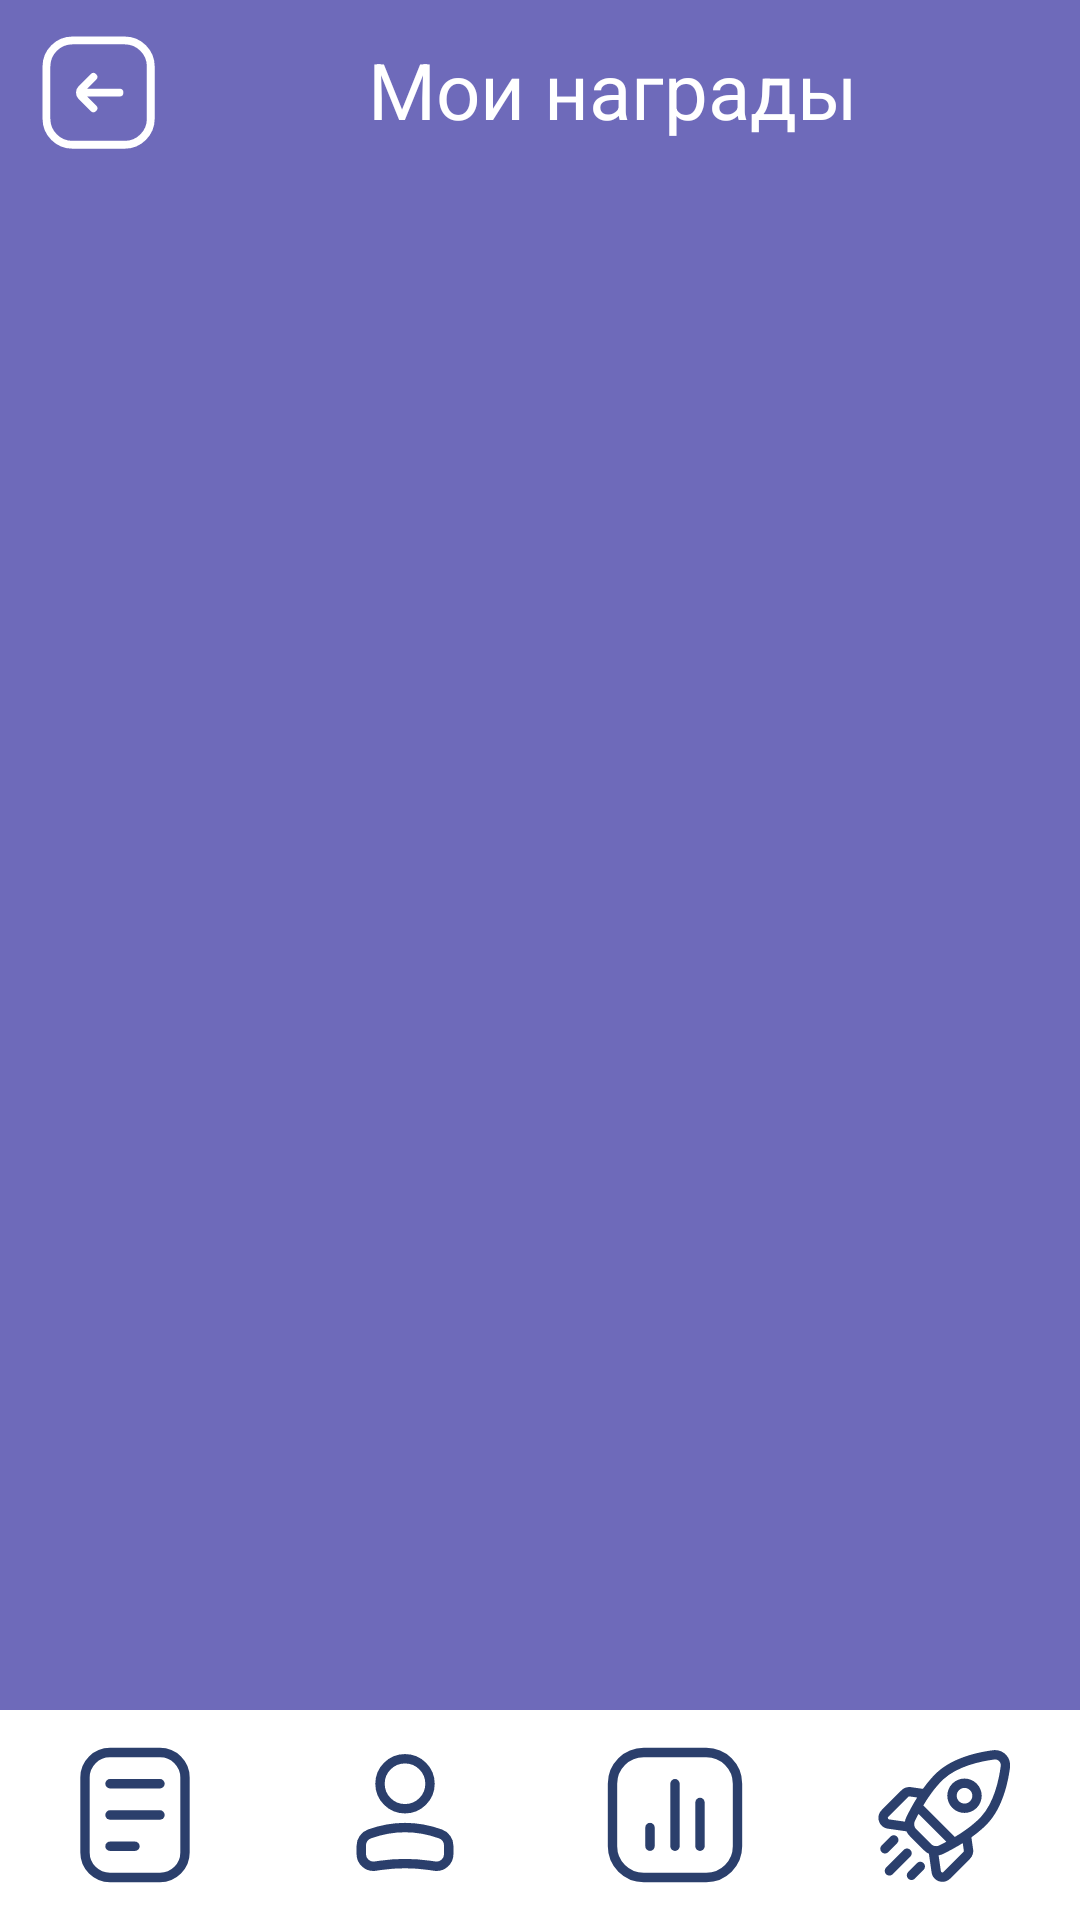

Screen size 1080*1920. Icon name, then its center in pixels as (x,y):
arrow left: (98,92)
list: (135,1815)
profile: (405,1812)
statistics: (675,1815)
